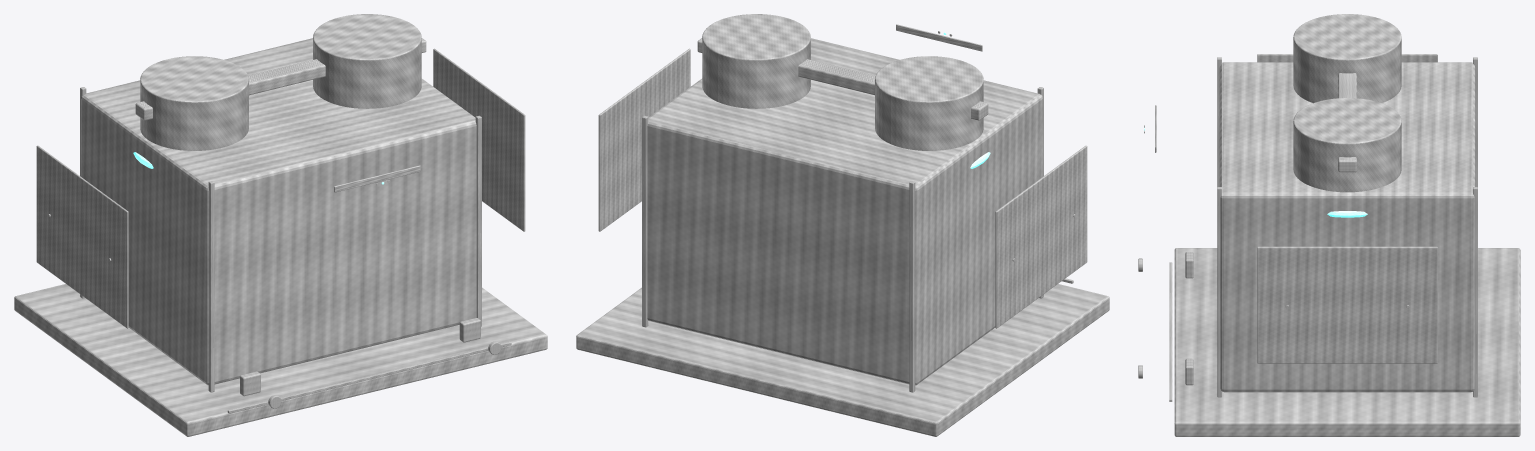
File: quantum_encoder_variant_c.glb
3 renders of one model, left to right at view 1: azimuth 30°, elevation 25°; view 2: azimuth 150°, elevation 25°; view 3: azimuth 270°, elevation 25°, orthographic.
Visible parts, largest first — view 1: Encoder containment body.002, Foundation skid.002, Side access panel.004, Quantum chamber.004, Quantum chamber.005, Side access panel.005, Upper gantry.002, Corner protective upright.009, Corner protective upright.011, Amber safety sill.003, Status panel.002; view 2: Encoder containment body.002, Foundation skid.002, Side access panel.004, Quantum chamber.004, Quantum chamber.005, Side access panel.005, Upper gantry.002, Corner protective upright.010, Corner protective upright.012, Status panel.002; view 3: Encoder containment body.002, Foundation skid.002, Side access panel.005, Quantum chamber.005, Quantum chamber.004, Corner protective upright.011, Corner protective upright.012, Upper gantry.002, Side access panel.004, Amber safety sill.003, Corner protective upright.009, Corner protective upright.010.
Part boxes in pixels (x1=…): Encoder containment body.002: x1=81, y1=38, x2=476, y2=385; Foundation skid.002: x1=14, y1=284, x2=547, y2=436; Side access panel.004: x1=36, y1=145, x2=128, y2=328; Quantum chamber.004: x1=140, y1=56, x2=248, y2=150; Quantum chamber.005: x1=313, y1=14, x2=421, y2=108; Side access panel.005: x1=433, y1=48, x2=525, y2=231; Upper gantry.002: x1=135, y1=38, x2=426, y2=120; Corner protective upright.009: x1=208, y1=181, x2=214, y2=392; Corner protective upright.011: x1=475, y1=115, x2=481, y2=326; Amber safety sill.003: x1=227, y1=341, x2=511, y2=413; Status panel.002: x1=334, y1=165, x2=420, y2=192; Encoder containment body.002: x1=647, y1=38, x2=1042, y2=385; Foundation skid.002: x1=576, y1=284, x2=1109, y2=436; Side access panel.004: x1=995, y1=145, x2=1087, y2=328; Quantum chamber.004: x1=875, y1=56, x2=983, y2=150; Quantum chamber.005: x1=702, y1=14, x2=810, y2=108; Side access panel.005: x1=598, y1=48, x2=690, y2=231; Upper gantry.002: x1=697, y1=38, x2=988, y2=120; Corner protective upright.010: x1=909, y1=181, x2=915, y2=392; Corner protective upright.012: x1=642, y1=115, x2=648, y2=327; Status panel.002: x1=896, y1=24, x2=982, y2=51; Encoder containment body.002: x1=1219, y1=62, x2=1475, y2=392; Foundation skid.002: x1=1174, y1=248, x2=1520, y2=436; Side access panel.005: x1=1257, y1=246, x2=1437, y2=363; Quantum chamber.005: x1=1293, y1=98, x2=1401, y2=192; Quantum chamber.004: x1=1293, y1=14, x2=1401, y2=103; Corner protective upright.011: x1=1217, y1=187, x2=1221, y2=397; Corner protective upright.012: x1=1473, y1=187, x2=1477, y2=397; Upper gantry.002: x1=1338, y1=73, x2=1356, y2=172; Side access panel.004: x1=1257, y1=54, x2=1437, y2=62; Amber safety sill.003: x1=1169, y1=262, x2=1172, y2=401; Corner protective upright.009: x1=1217, y1=57, x2=1221, y2=186; Corner protective upright.010: x1=1473, y1=57, x2=1477, y2=186.
Size of what is drawn, in the model's own units: 12.34 by 7.97 by 10.16.
7 materials, 7 textured.
